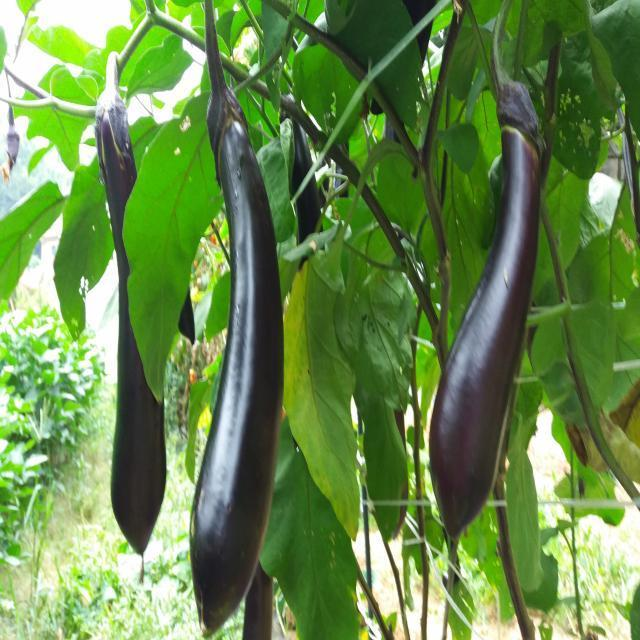eggplant: (197, 7, 309, 640), (450, 26, 570, 553), (81, 37, 170, 563)
